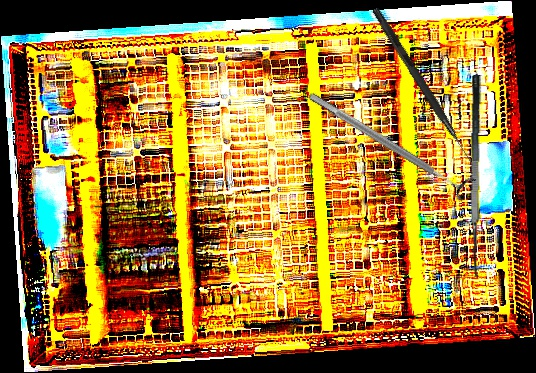Fixation Ring: (301, 82, 479, 205)
Hook Surgical: (369, 7, 479, 167)
Spatula Surgical: (463, 74, 499, 278)
